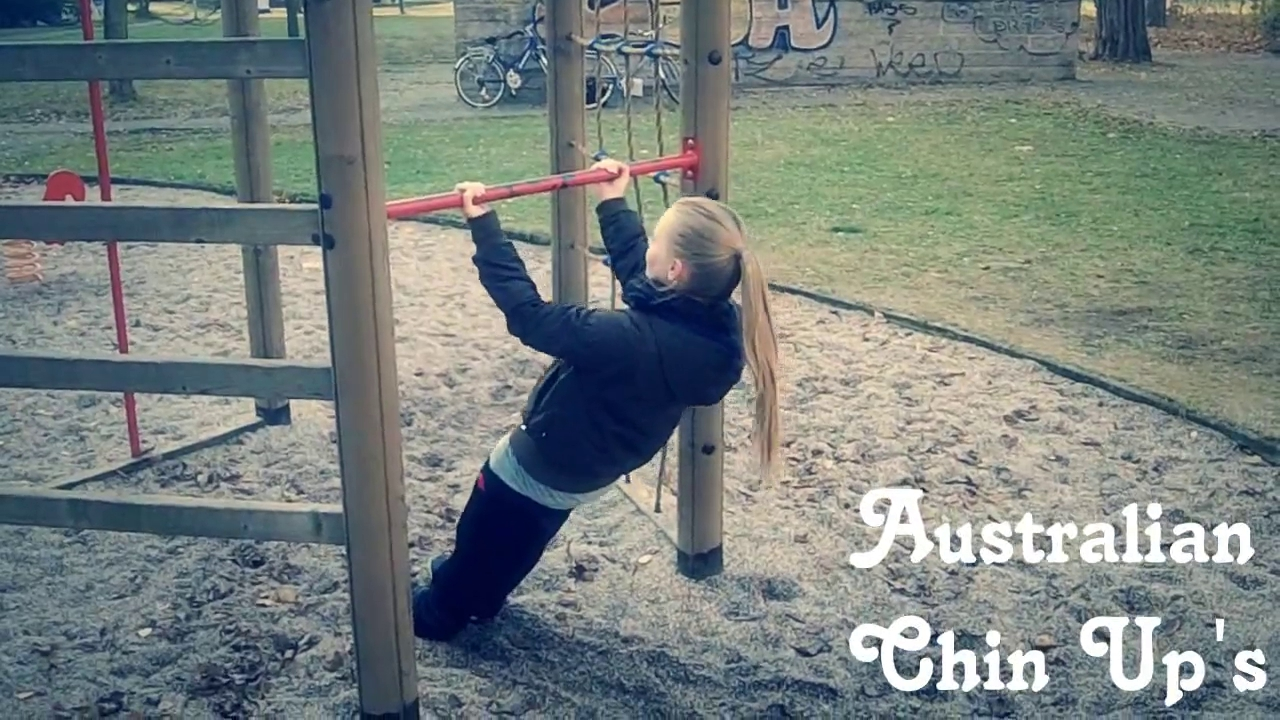person: (410, 158, 775, 640)
